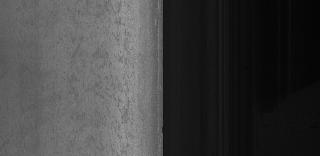silk spot: (101, 11, 141, 145)
